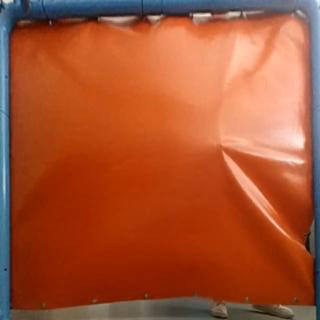Hit-hRxx: (214, 140, 232, 154)
